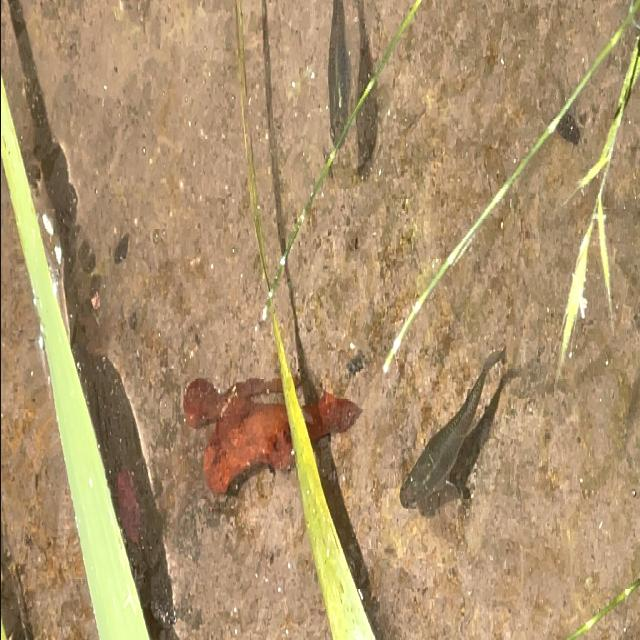Sivrisinek Baligi: (393, 337, 518, 528), (318, 0, 358, 179)
